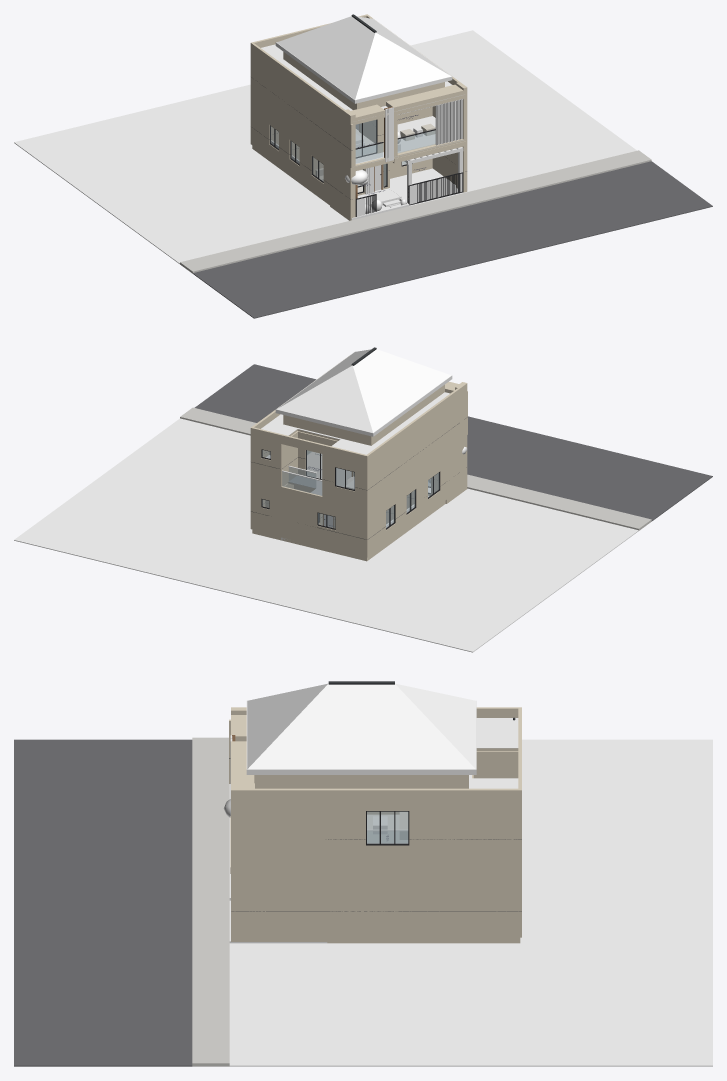
File: model-3d-rozi.glb
3 renders of one model, top to bottom at view 1: azimuth 30°, elevation 25°; view 2: azimuth 150°, elevation 25°; view 3: azimuth 270°, elevation 25°, orthographic. The views are drawn at different scales.
Visible parts, largest first — view 1: Lahan_Sekitar, Jalan_Aspal, Atap_Limasan_Genteng_Flat, Trotoar, Dinding_Lt1, Dinding_Lt2, Bingkai_Krem, Lantai_Carport, Pagar_Besi_Hitam, Kaca, Ring_Dudukan_Atap, Kisi_Kayu_Vertikal (+7 smaller); view 2: Lahan_Sekitar, Jalan_Aspal, Dinding_Lt1, Dinding_Lt2, Atap_Limasan_Genteng_Flat, Bingkai_Krem, Trotoar, Kaca, Ring_Dudukan_Atap, Dak_Waterproofing, Lisplang_Kayu, Pelat_Lantai_1 (+2 smaller); view 3: Lahan_Sekitar, Jalan_Aspal, Dinding_Lt1, Atap_Limasan_Genteng_Flat, Bingkai_Krem, Dinding_Lt2, Trotoar, Ring_Dudukan_Atap, Dak_Waterproofing, Lisplang_Kayu, Pelat_Lantai_1, Kaca (+1 smaller).
Boxes of the visible parts, box(x1,y1,x2,y2) form: Lahan_Sekitar: box(14, 30, 636, 263); Jalan_Aspal: box(193, 161, 712, 318); Atap_Limasan_Genteng_Flat: box(277, 16, 451, 99); Trotoar: box(180, 150, 651, 273); Dinding_Lt1: box(250, 97, 467, 220); Dinding_Lt2: box(250, 52, 432, 167); Bingkai_Krem: box(250, 14, 467, 220); Lantai_Carport: box(390, 168, 466, 206); Pagar_Besi_Hitam: box(355, 172, 463, 216); Kaca: box(270, 120, 406, 185); Ring_Dudukan_Atap: box(283, 52, 444, 109); Kisi_Kayu_Vertikal: box(435, 99, 462, 145); Lahan_Sekitar: box(14, 418, 638, 652); Jalan_Aspal: box(194, 364, 712, 521); Dinding_Lt1: box(250, 442, 467, 557); Dinding_Lt2: box(250, 391, 467, 507); Atap_Limasan_Genteng_Flat: box(276, 349, 451, 432); Bingkai_Krem: box(250, 356, 467, 509); Trotoar: box(180, 407, 651, 530); Kaca: box(262, 450, 439, 527); Ring_Dudukan_Atap: box(283, 384, 444, 445); Dak_Waterproofing: box(261, 392, 449, 454); Lisplang_Kayu: box(275, 352, 452, 436); Pelat_Lantai_1: box(252, 500, 445, 561); Lahan_Sekitar: box(229, 739, 712, 1066); Jalan_Aspal: box(14, 739, 192, 1066); Dinding_Lt1: box(231, 868, 521, 941); Atap_Limasan_Genteng_Flat: box(247, 683, 475, 769); Bingkai_Krem: box(231, 707, 521, 941); Dinding_Lt2: box(229, 719, 521, 865); Trotoar: box(192, 737, 229, 1066); Ring_Dudukan_Atap: box(254, 775, 468, 788); Dak_Waterproofing: box(469, 718, 518, 788); Lisplang_Kayu: box(246, 700, 476, 774); Pelat_Lantai_1: box(327, 937, 520, 943); Kaca: box(367, 811, 408, 843).
Size of the model in its own units: 32 by 10.15 by 29.
